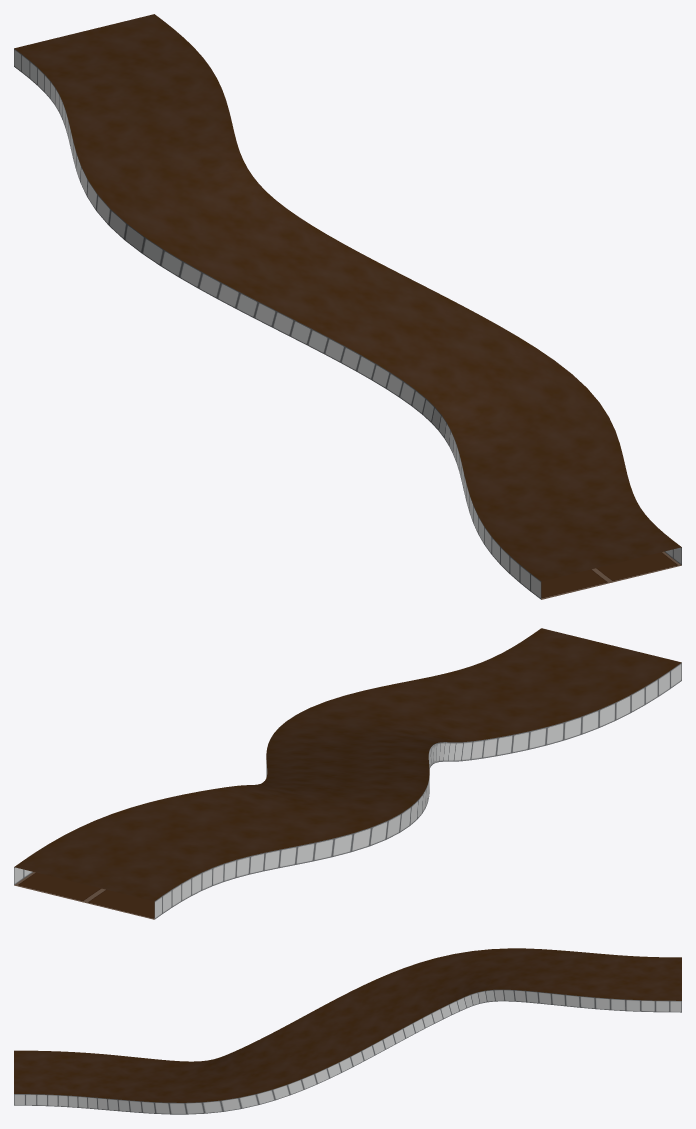
The model's file is PathfindingIngenuityMudCurve.obj.
3 renders of one model, top to bottom at view 1: azimuth 30°, elevation 25°; view 2: azimuth 150°, elevation 25°; view 3: azimuth 270°, elevation 25°, orthographic. The views are drawn at different scales.
Visible parts, largest first — view 1: Cube_Cube.001; view 2: Cube_Cube.001; view 3: Cube_Cube.001.
Boxes of the visible parts, left/top/right/bottom form: Cube_Cube.001: left=14, top=14, right=681, bottom=599; Cube_Cube.001: left=14, top=628, right=681, bottom=919; Cube_Cube.001: left=14, top=948, right=681, bottom=1114.
Bounding box in the file's own units: 7.9 × 4.5 × 26.
